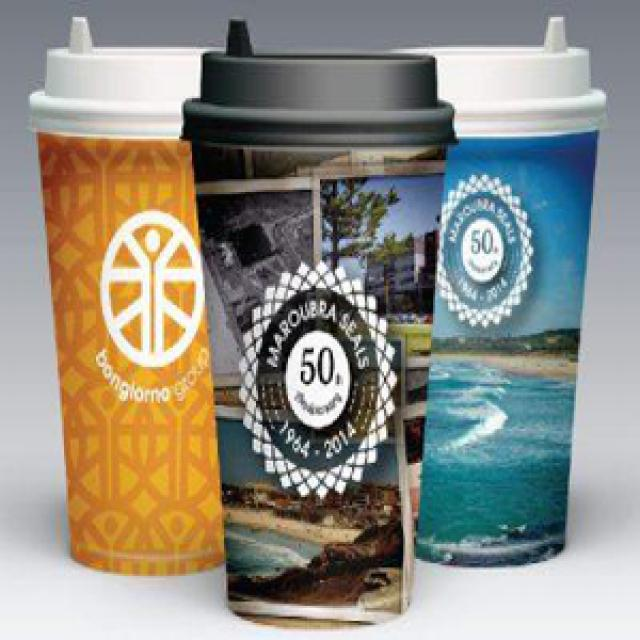plastic cup: (177, 15, 467, 640), (380, 15, 608, 572), (21, 13, 232, 582)
